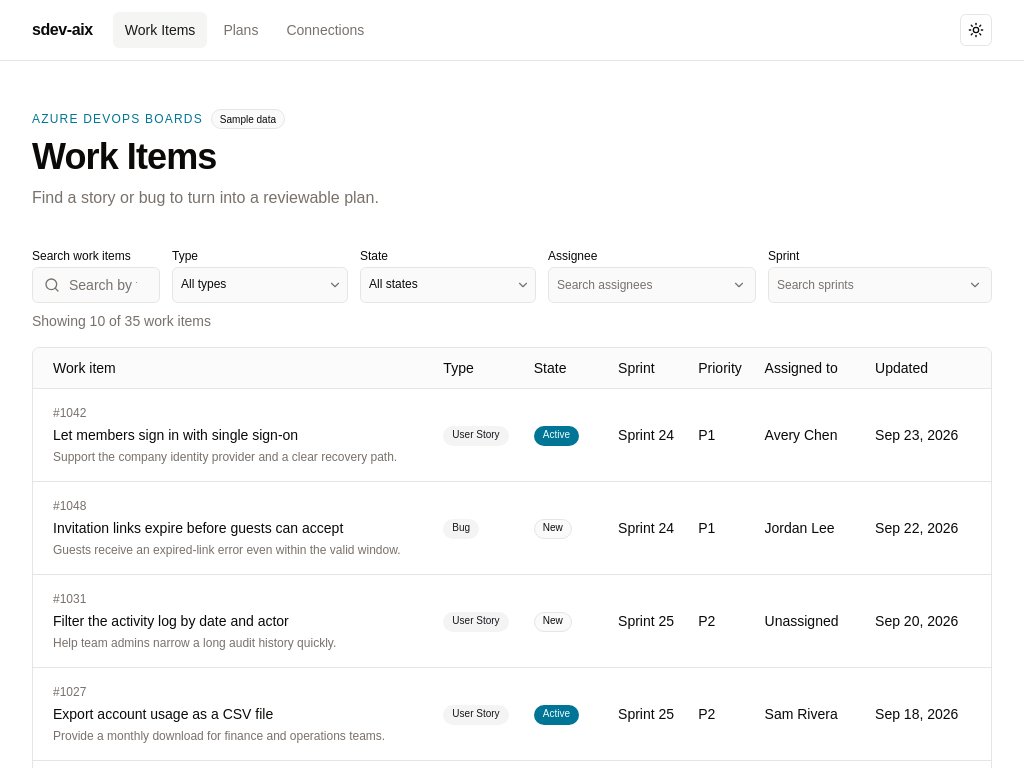
Test: app routing › navigates using links, marks the current route and focuses content
This screenshot has width=1024, height=768.
Click the link "Plans".
click(241, 30)  # box [223,22,258,38]
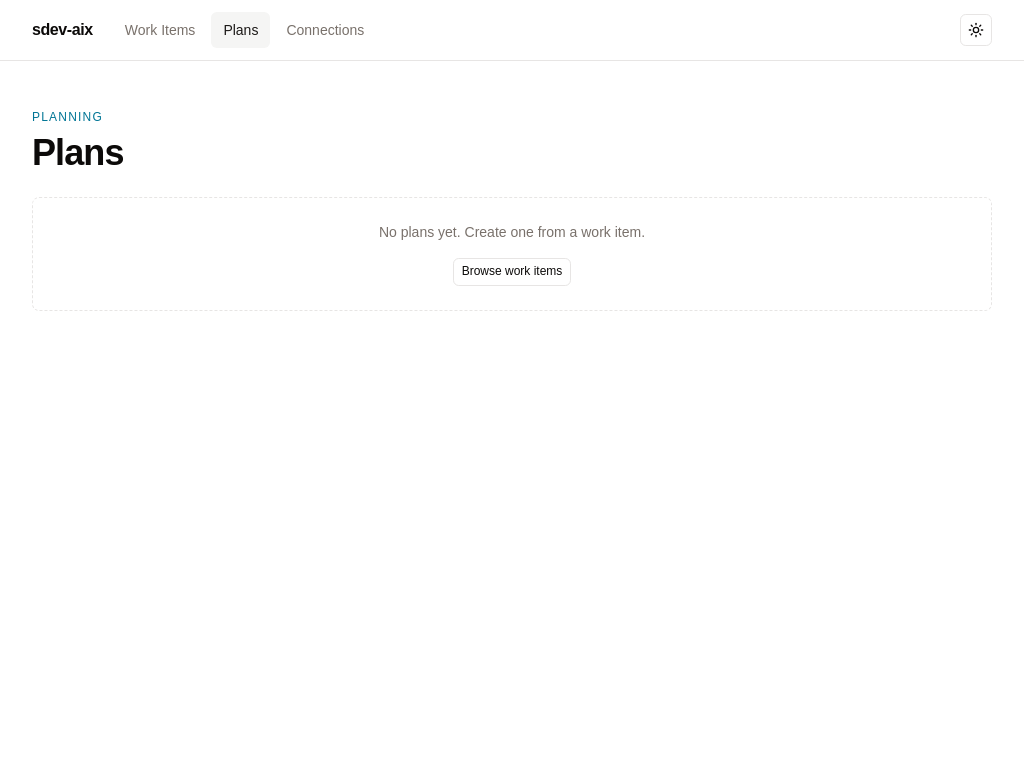
Now the heading "Plans" is shown, box [32,132,124,173]
